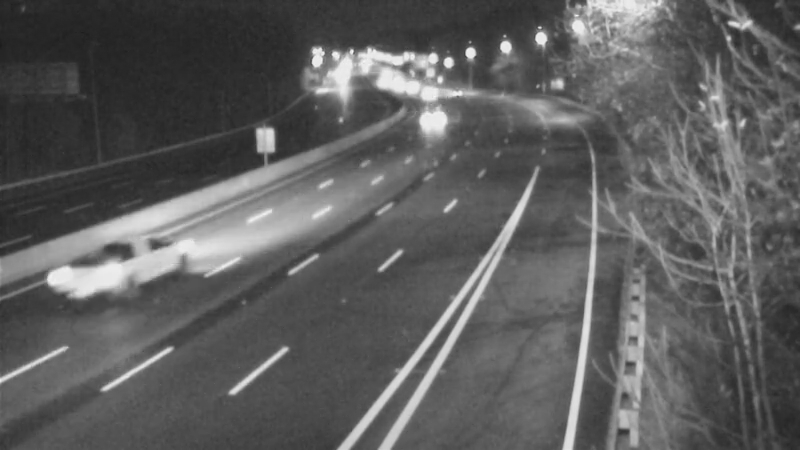vehicle: (44, 234, 124, 314), (430, 66, 480, 116), (401, 71, 451, 121), (406, 94, 456, 144)
